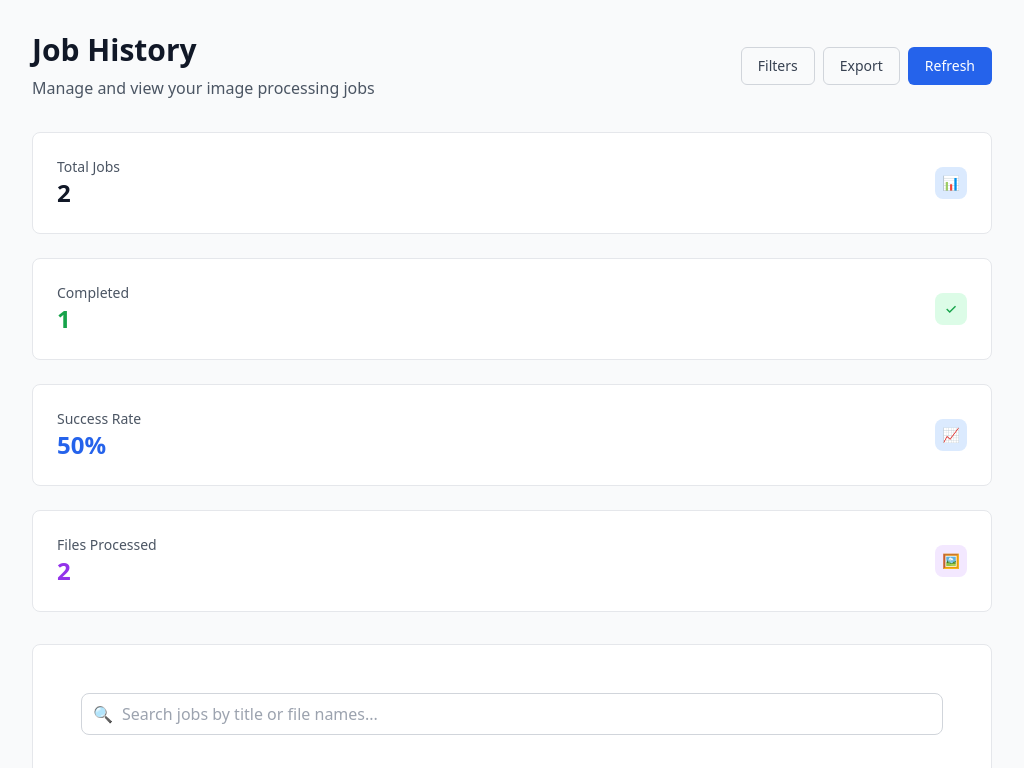
Scenario: JobHistory Component › Export Functionality › should close export modal when cancel is clicked
Click the button "Export".
click(861, 66)  # box [823,47,900,85]
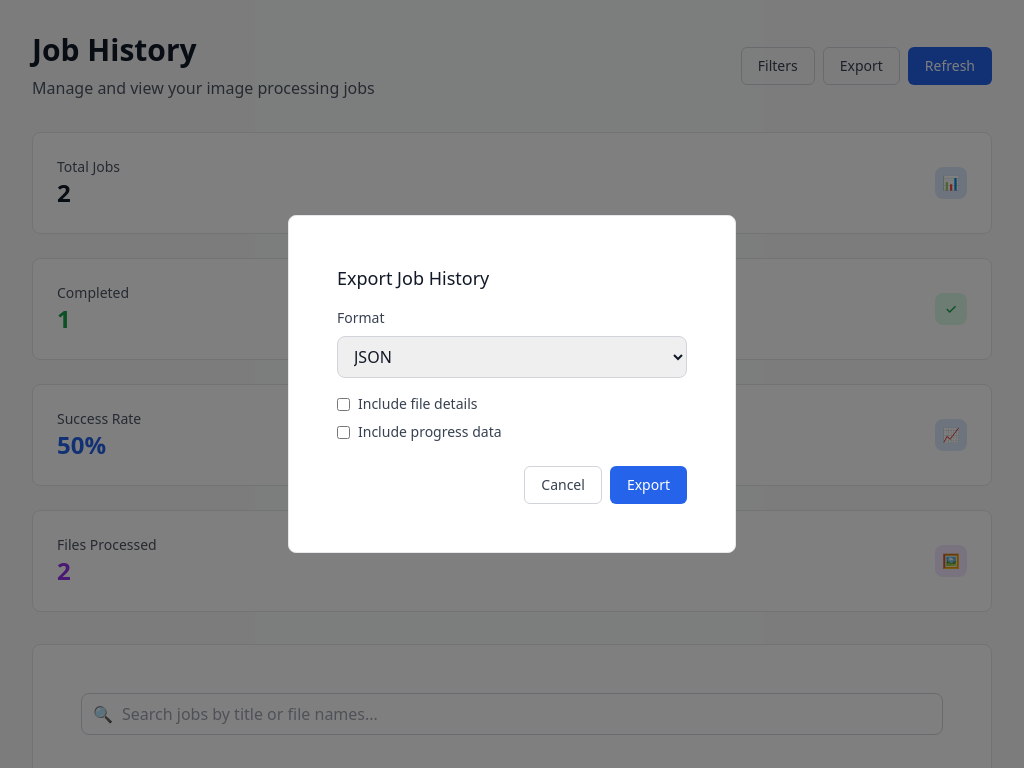
Click the button "Cancel".
click(563, 485)  # box [524,466,602,504]
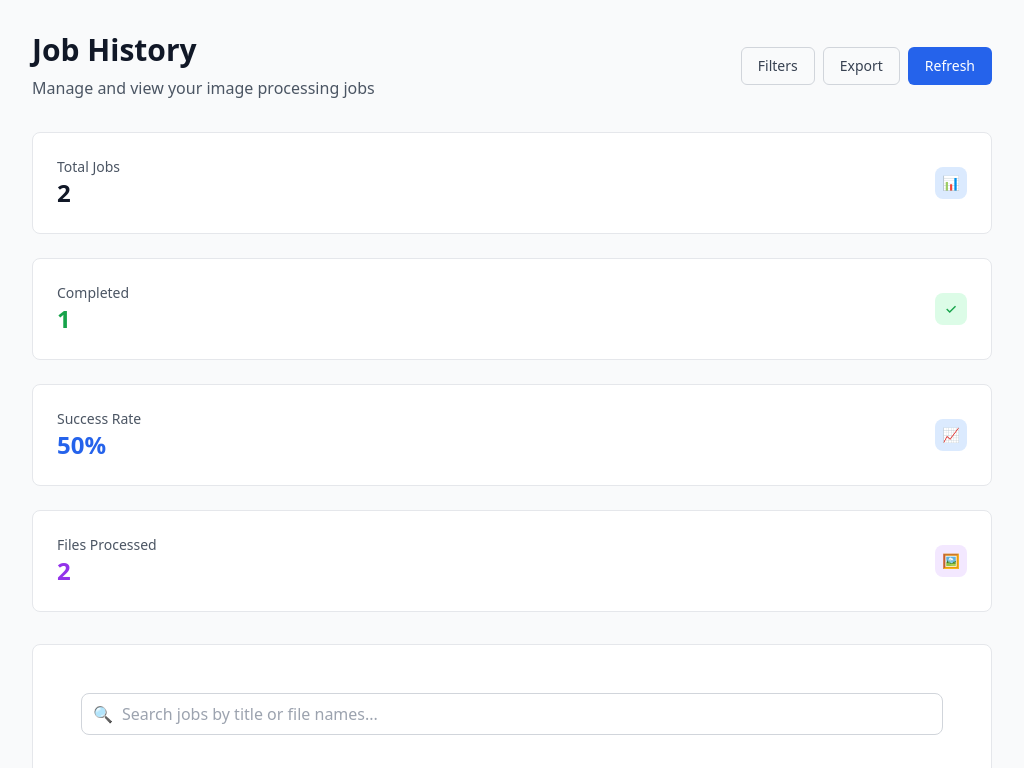
Expected: the heading "Export Job History" is gone
